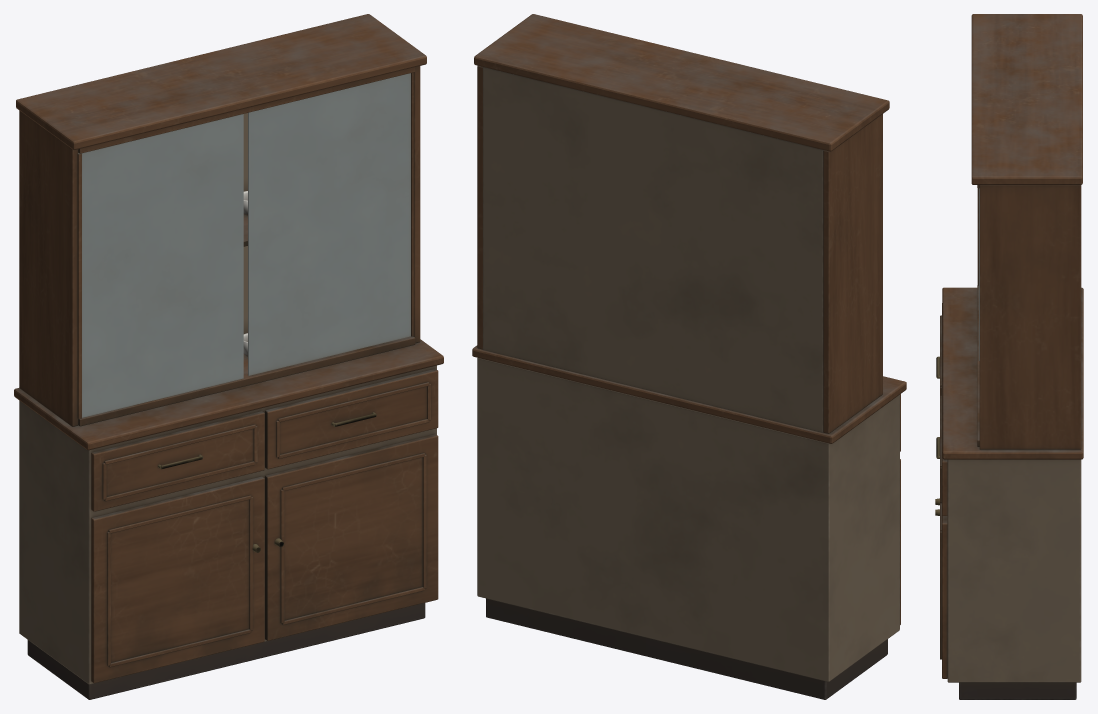
Rendered from Sideboard.fbx.
3 views of the same model, side by side, from view 1: azimuth 30°, elevation 25°; view 2: azimuth 150°, elevation 25°; view 3: azimuth 270°, elevation 25° (orthographic). The views are drawn at different scales.
Visible parts, largest first — view 1: Sideboard_Mesh, Sideboard_Glass; view 2: Sideboard_Mesh; view 3: Sideboard_Mesh.
Boxes of the visible parts, x1=… form: Sideboard_Mesh: x1=14, y1=14, x2=443, y2=699; Sideboard_Glass: x1=78, y1=73, x2=410, y2=417; Sideboard_Mesh: x1=472, y1=14, x2=906, y2=699; Sideboard_Mesh: x1=935, y1=14, x2=1083, y2=699.
Size of the model in its own units: 1.23 by 1.83 by 0.4665.
